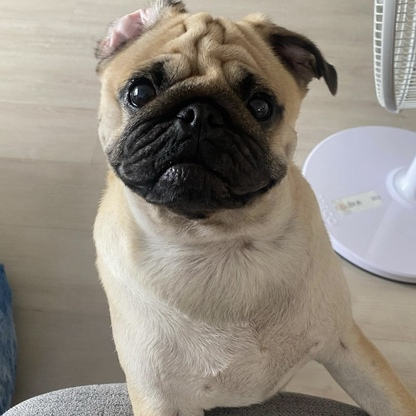Pug: (77, 1, 416, 416)
